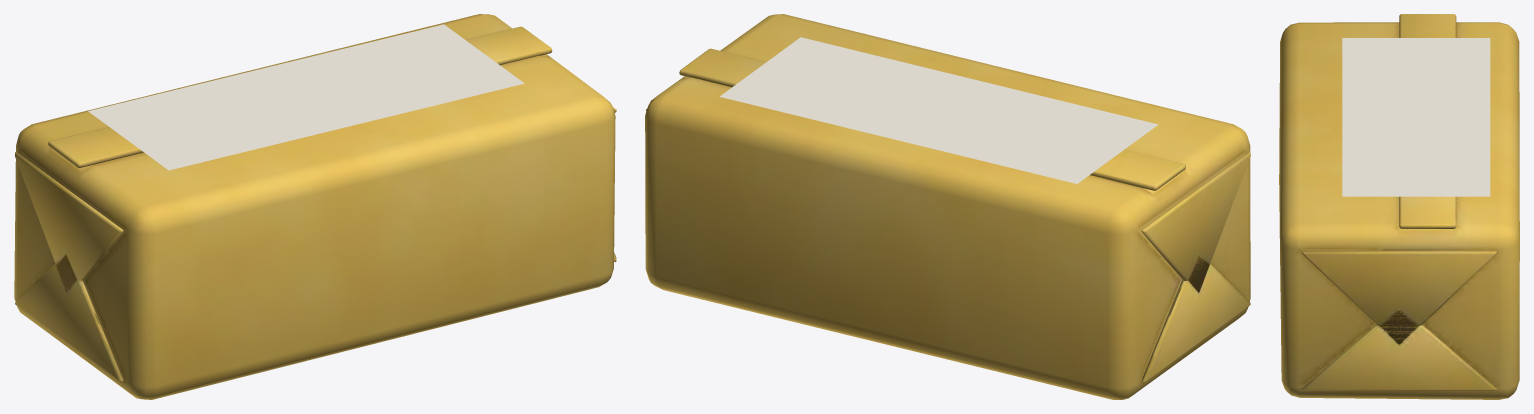
File: butter.glb
The picture shows the model from 3 angles, left to right: view 1: azimuth 30°, elevation 25°; view 2: azimuth 150°, elevation 25°; view 3: azimuth 270°, elevation 25°; orthographic projection. The views are drawn at different scales.
Parts seen in each view (by area): view 1: butter, butter_label; view 2: butter, butter_label; view 3: butter, butter_label.
Part boxes in pixels (box(x1,y1,x2,y2)): butter: box(14, 14, 616, 399); butter_label: box(88, 24, 524, 170); butter: box(645, 14, 1250, 399); butter_label: box(719, 37, 1158, 183); butter: box(1279, 14, 1519, 399); butter_label: box(1342, 38, 1490, 196).
Bounding box in the file's own units: 0.924 × 0.3537 × 0.4233.
2 materials, 1 textured.
